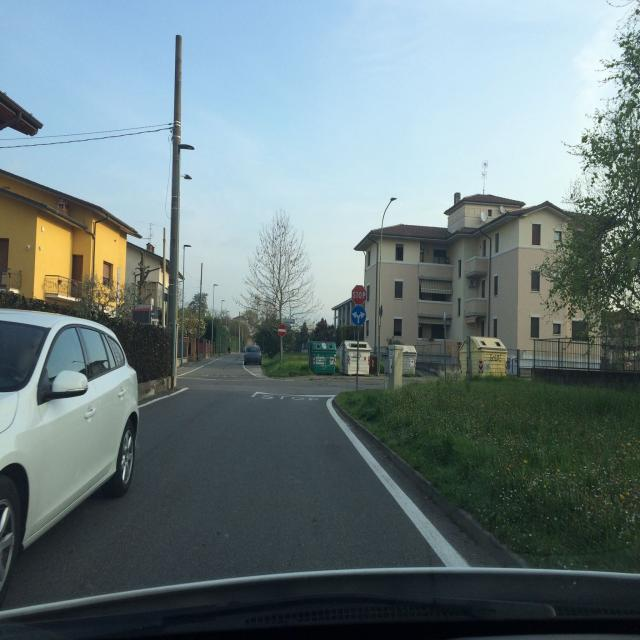car: (0, 306, 140, 614), (243, 345, 263, 366)
